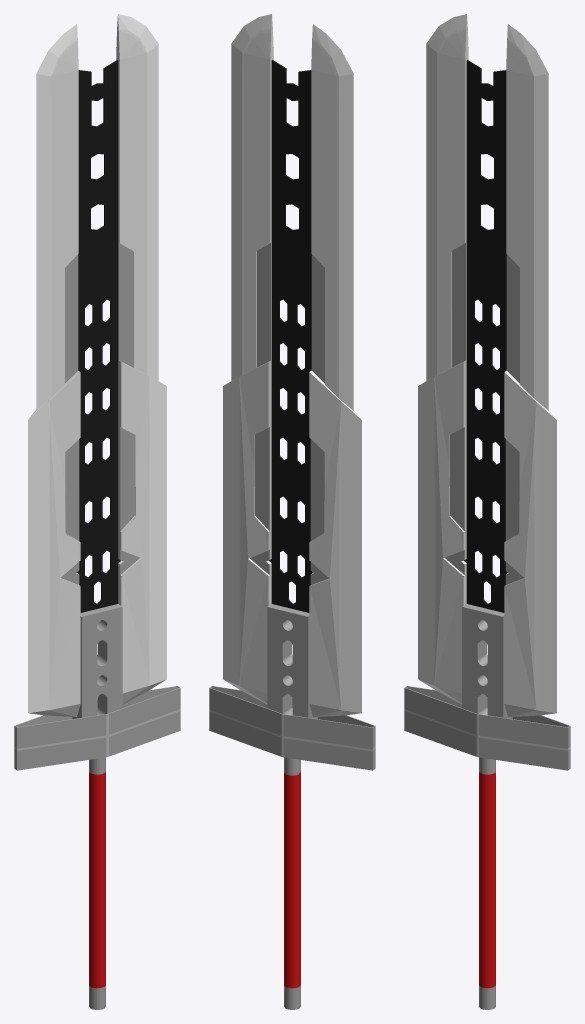
The model's file is firstsword-open-united.obj.
3 views of the same model, side by side, from view 1: azimuth 30°, elevation 25°; view 2: azimuth 150°, elevation 25°; view 3: azimuth 330°, elevation 25° (orthographic).
Visible parts, largest first — view 1: centerplate_center; view 2: centerplate_center; view 3: centerplate_center.
Part boxes in pixels (x1=…): centerplate_center: x1=14, y1=14, x2=180, y2=1009; centerplate_center: x1=209, y1=14, x2=375, y2=1009; centerplate_center: x1=404, y1=14, x2=570, y2=1009.
Bounding box in the file's own units: 4 × 23.08 × 0.86.
